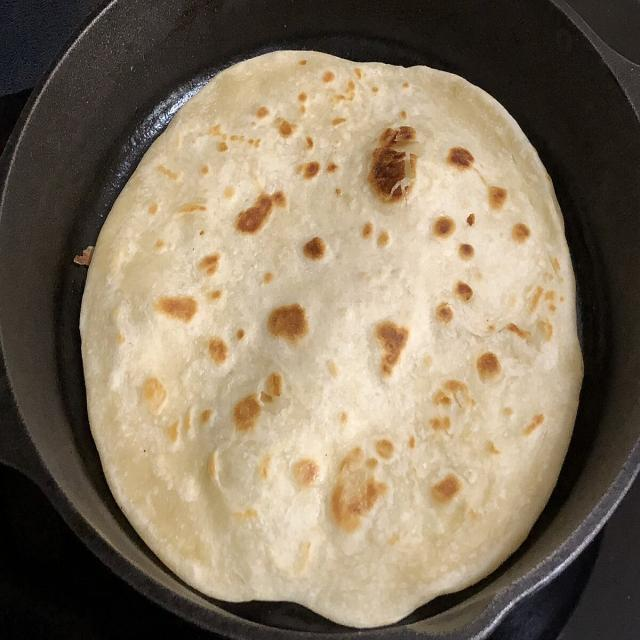RICE BHAKRI: (81, 51, 583, 626)
